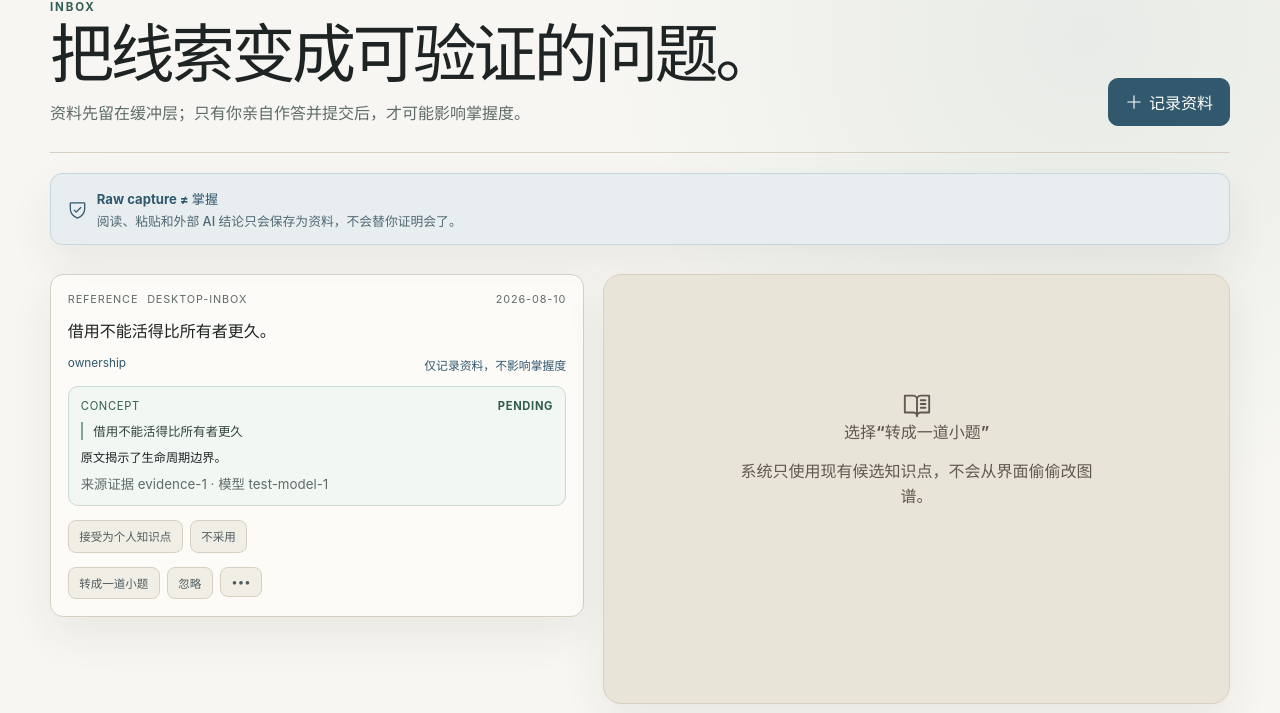
Test case: InboxPage › keeps raw capture separate from mastery and turns it into a verified answer
The image size is (1280, 713).
Expected: the text "Raw capture ≠ 掌握" is shown, [97,191,218,207]
Click the button "转成一道小题". click: (114, 583)
box: [68,567,160,599]
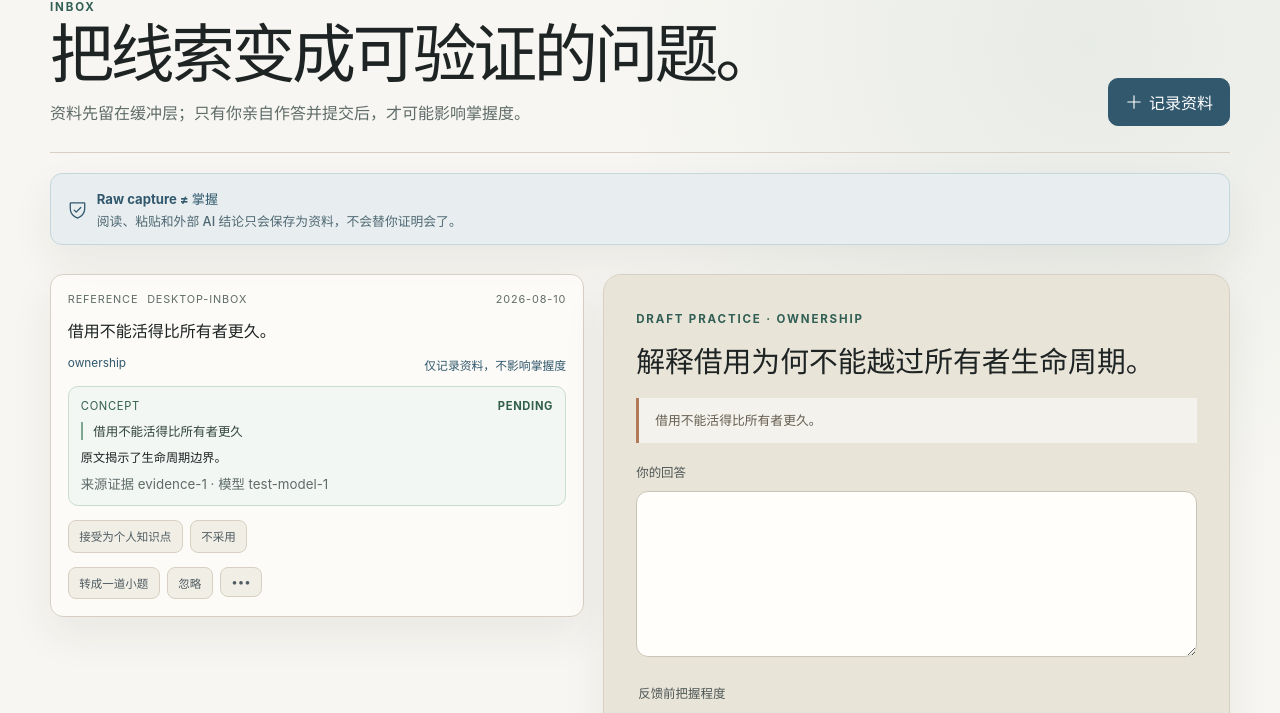
Expected: the heading "解释借用为何不能越过所有者生命周期。" is shown, [636,343,1197,382]
Type "引用必须在所有者析构前结束。" into the text box labelled "你的回答". click: (917, 574)
box: [636,491,1197,657]
(page scrolled)
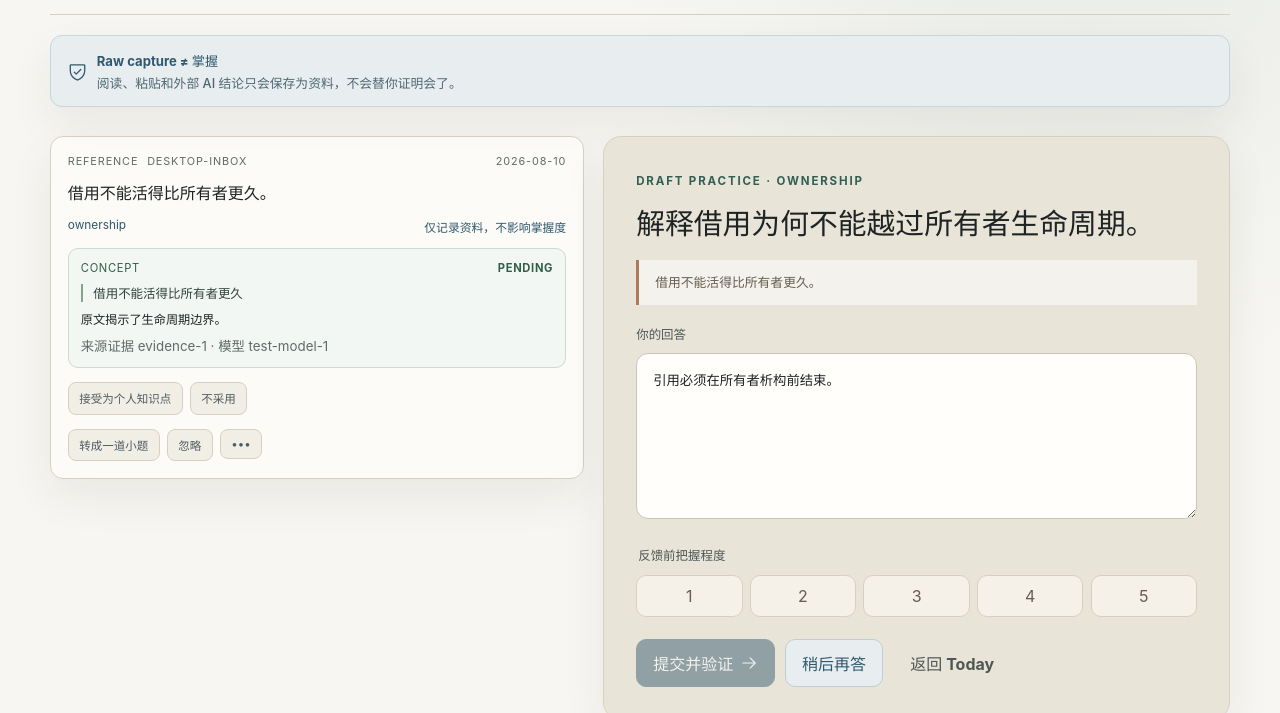
Click the button "4". click: (1030, 596)
box: [977,575,1083,617]
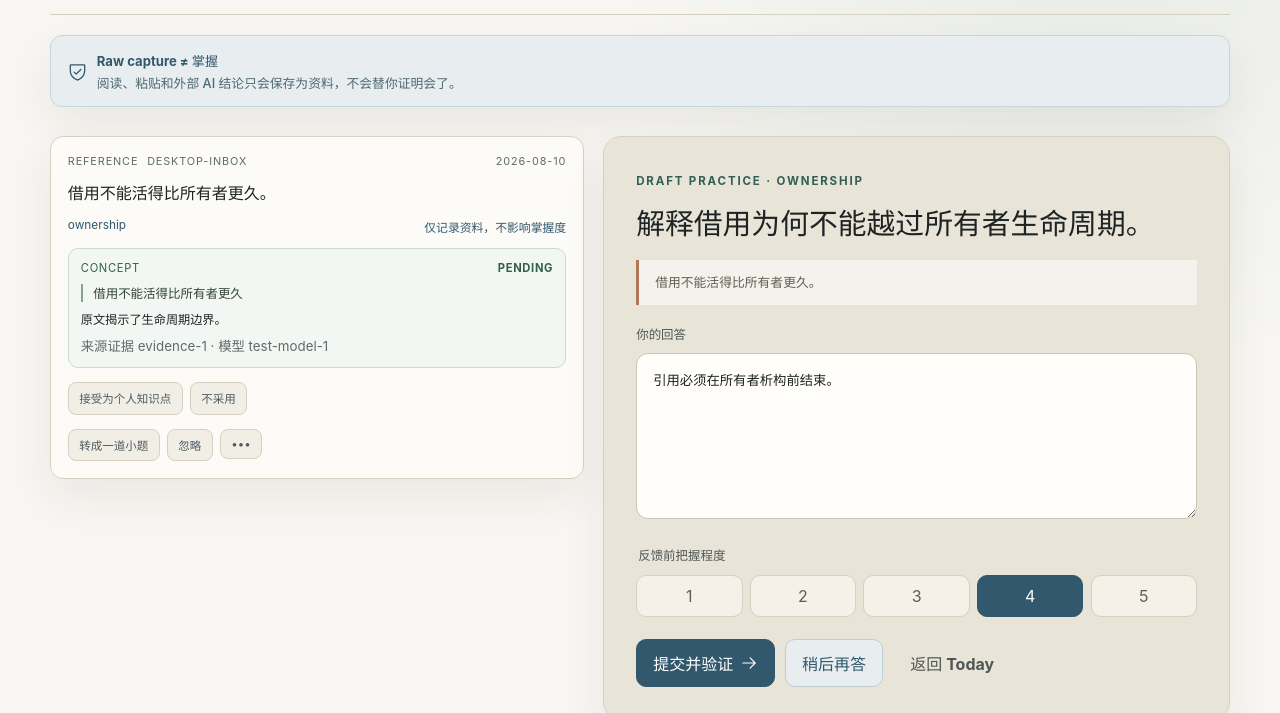
Click the button "提交并验证". click: (705, 663)
box: [636,639,775,687]
(page scrolled)
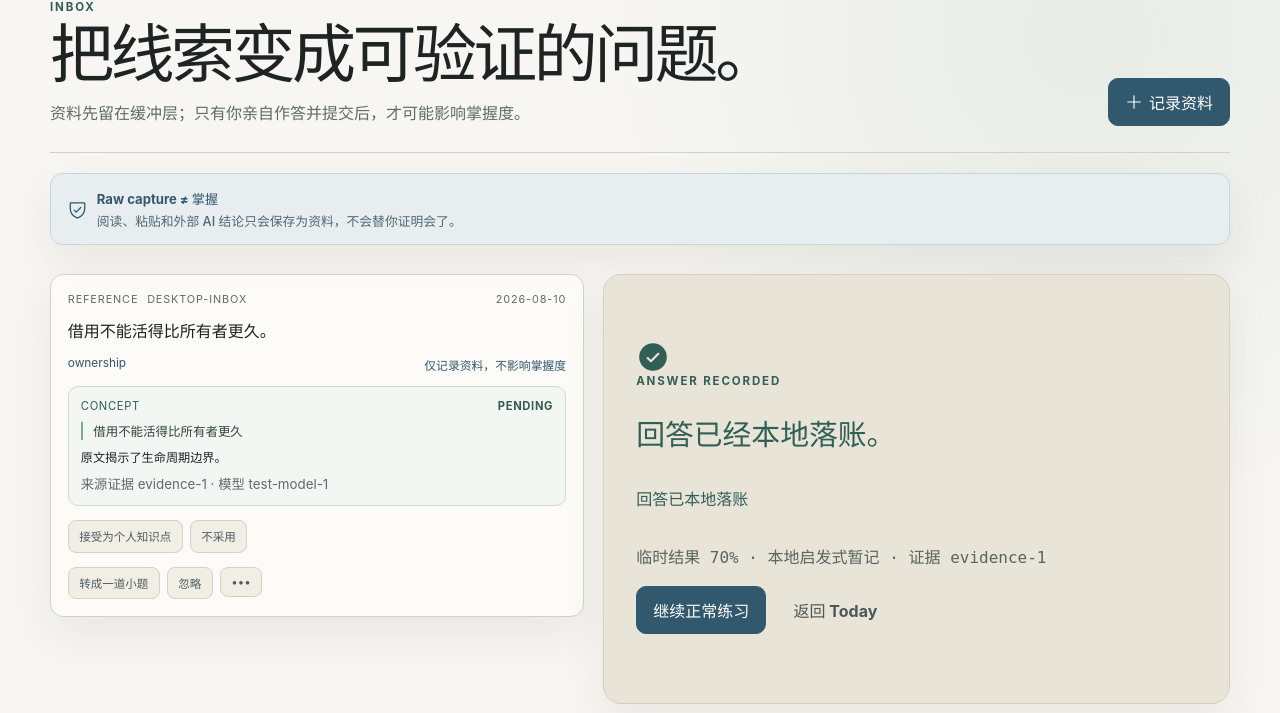
Expected: the heading "回答已经本地落账。" is shown, [636,419,895,451]
Expected: the text "临时结果 70% · 本地启发式暂记 · 证据 evidence-1" is shown, [636,545,1066,570]
